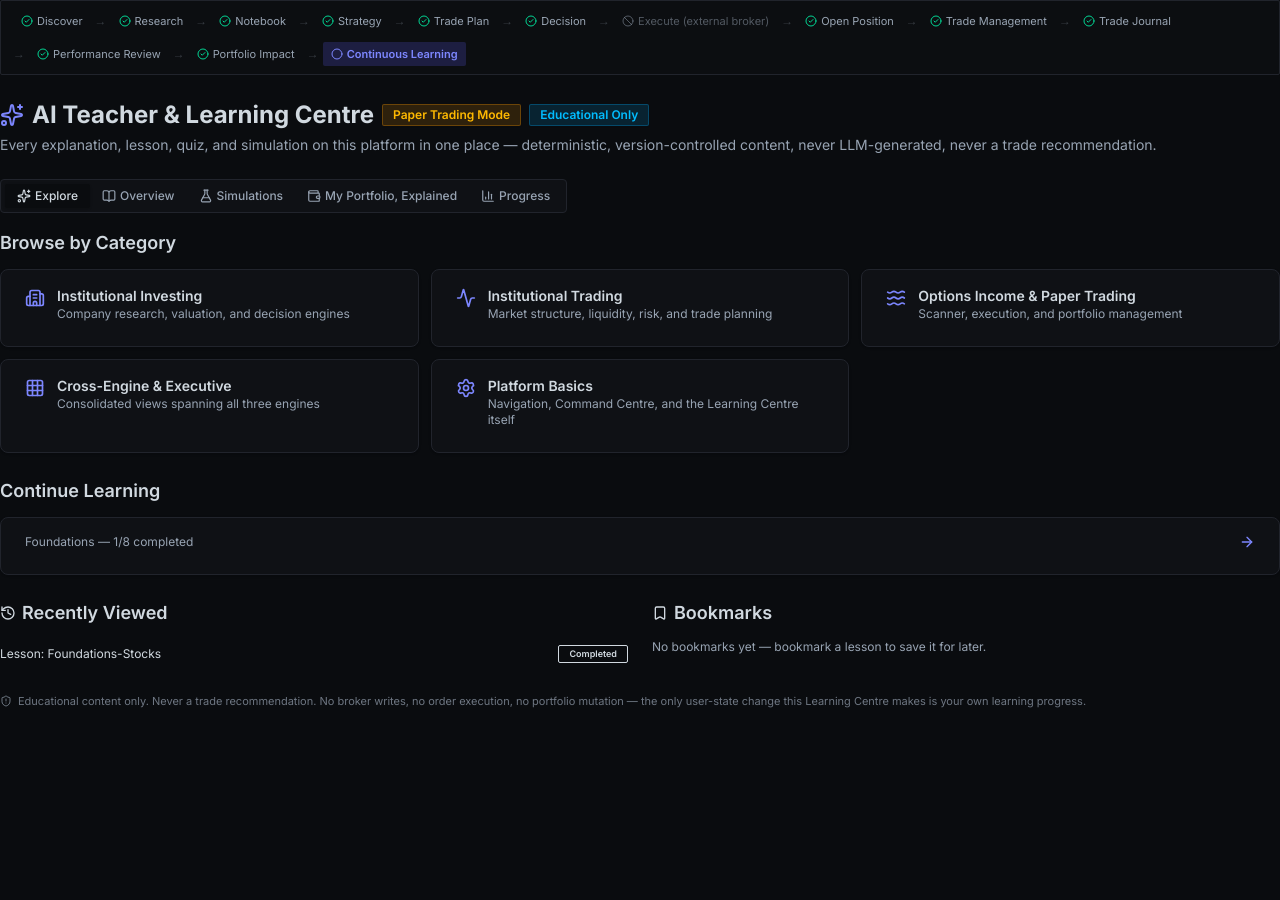
LearningCentre › the Overview tab is still reachable and unchanged
This screenshot has width=1280, height=900.
Click the tab "Overview": (138, 196) [90,184,187,208]
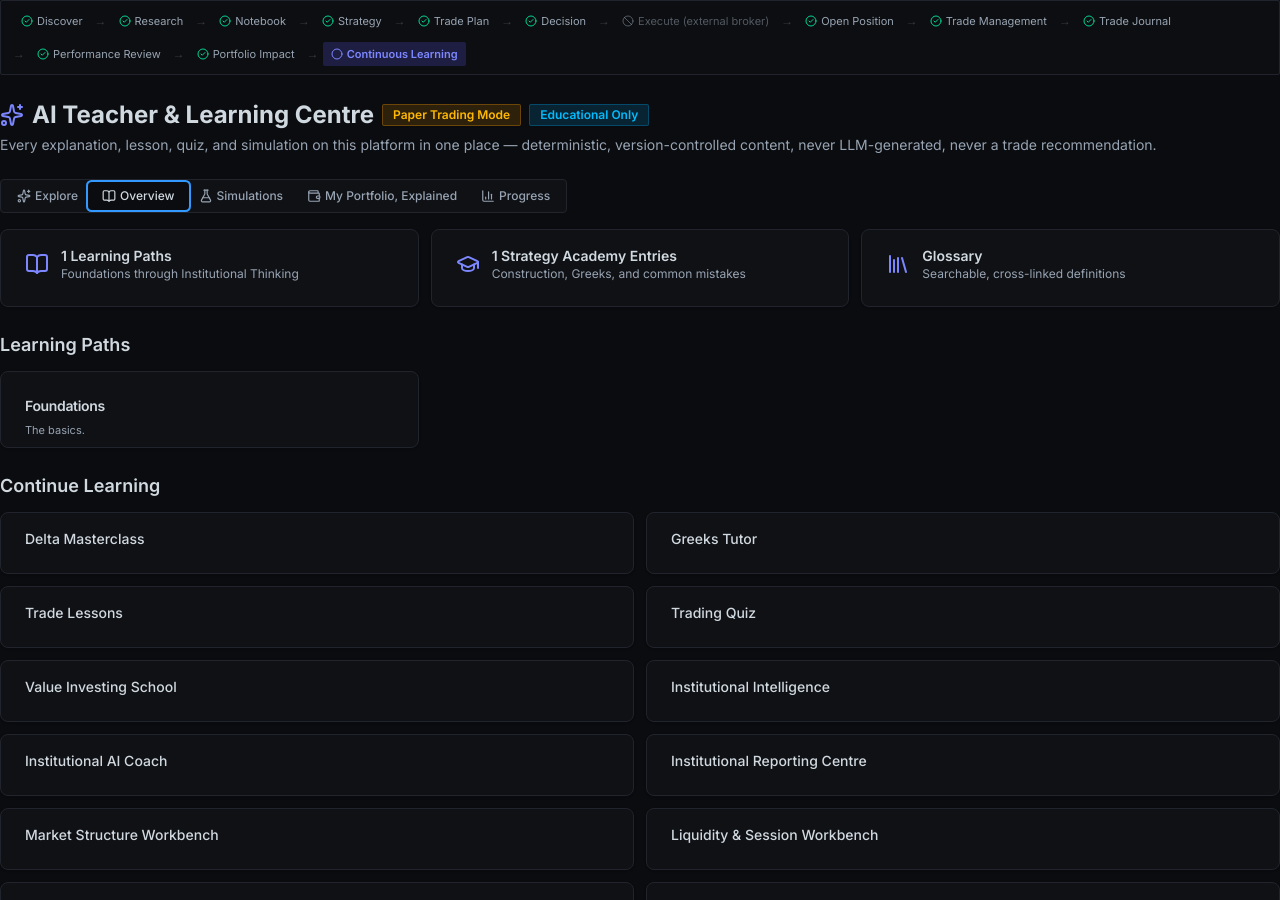
Expected: the link with test id "link-overview-paths" is shown, [0,229,419,307]
